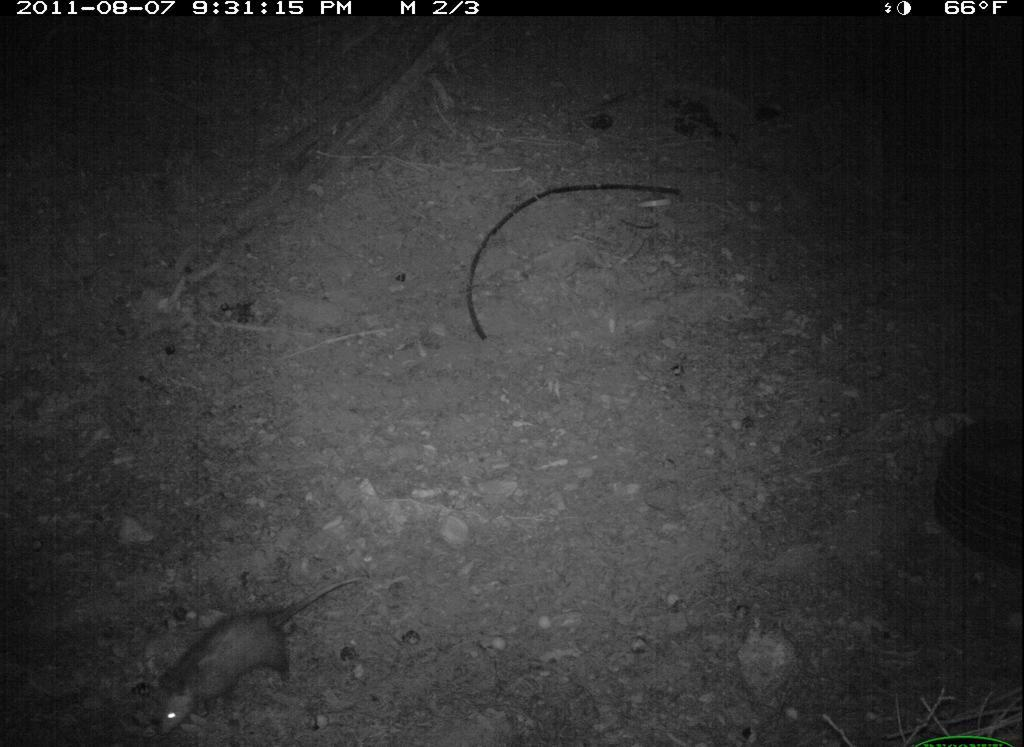opossum: (134, 548, 388, 747)
